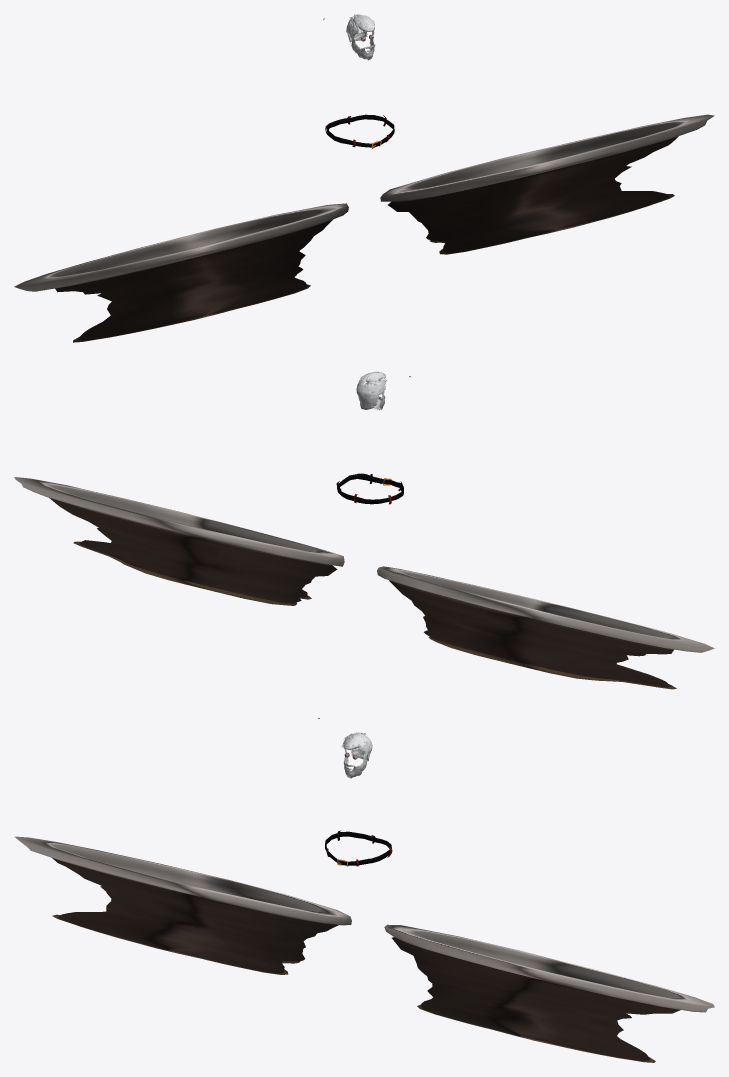
The model's file is santas sleigh.glb.
3 views of the same model, one above another, from view 1: azimuth 30°, elevation 25°; view 2: azimuth 150°, elevation 25°; view 3: azimuth 330°, elevation 25° (orthographic).
Parts seen in each view (by area): view 1: Object_22, Object_22.002; view 2: Object_22.002, Object_22.003, Object_22, Object_11.001; view 3: Object_22, Object_22.002, Object_11.004.
Boxes of the visible parts, x1,y1,x2,y2 form: Object_22: (14, 115, 714, 342); Object_22.002: (15, 114, 711, 342); Object_22.002: (15, 478, 713, 689); Object_22.003: (14, 477, 714, 689); Object_22: (16, 477, 713, 689); Object_11.001: (356, 371, 386, 409); Object_22: (14, 836, 714, 1062); Object_22.002: (16, 836, 714, 1058); Object_11.004: (341, 732, 372, 760).
Size of the model in its own units: 53480 by 18688 by 4263.
56 materials, 43 textured.
